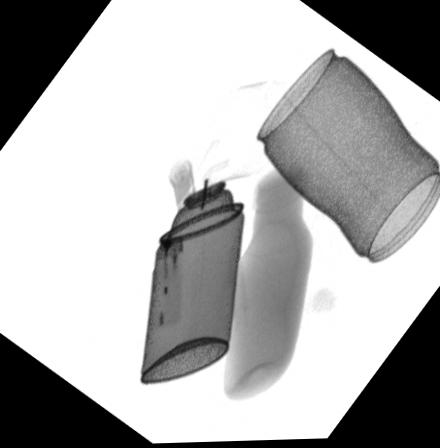Lighter: (149, 236, 184, 329)
Sprayer: (139, 148, 246, 383)
